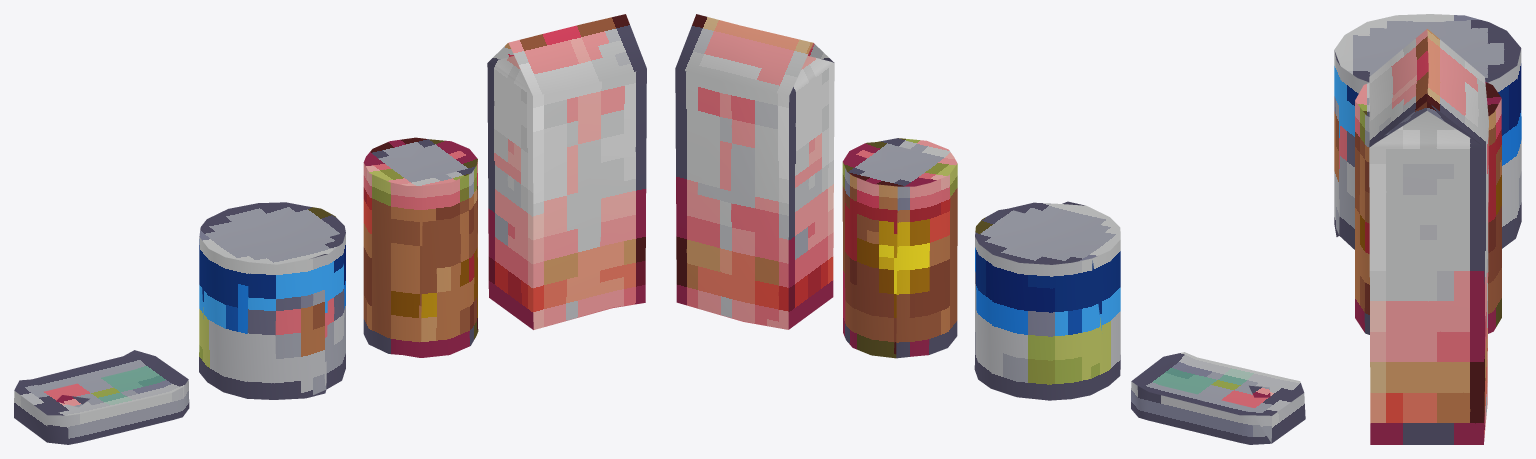
The model's file is long_life_food.glb.
3 renders of one model, left to right at view 1: azimuth 30°, elevation 25°; view 2: azimuth 150°, elevation 25°; view 3: azimuth 270°, elevation 25°, orthographic. The views are drawn at different scales.
Parts seen in each view (by area): view 1: mesh; view 2: mesh; view 3: mesh.
Part boxes in pixels (x1,y1,x2,y2): mesh: [14, 14, 646, 444]; mesh: [675, 14, 1305, 444]; mesh: [1334, 14, 1521, 444].
Bounding box in the file's own units: 0.5391 × 0.2376 × 0.1159.
1 material, 1 textured.
